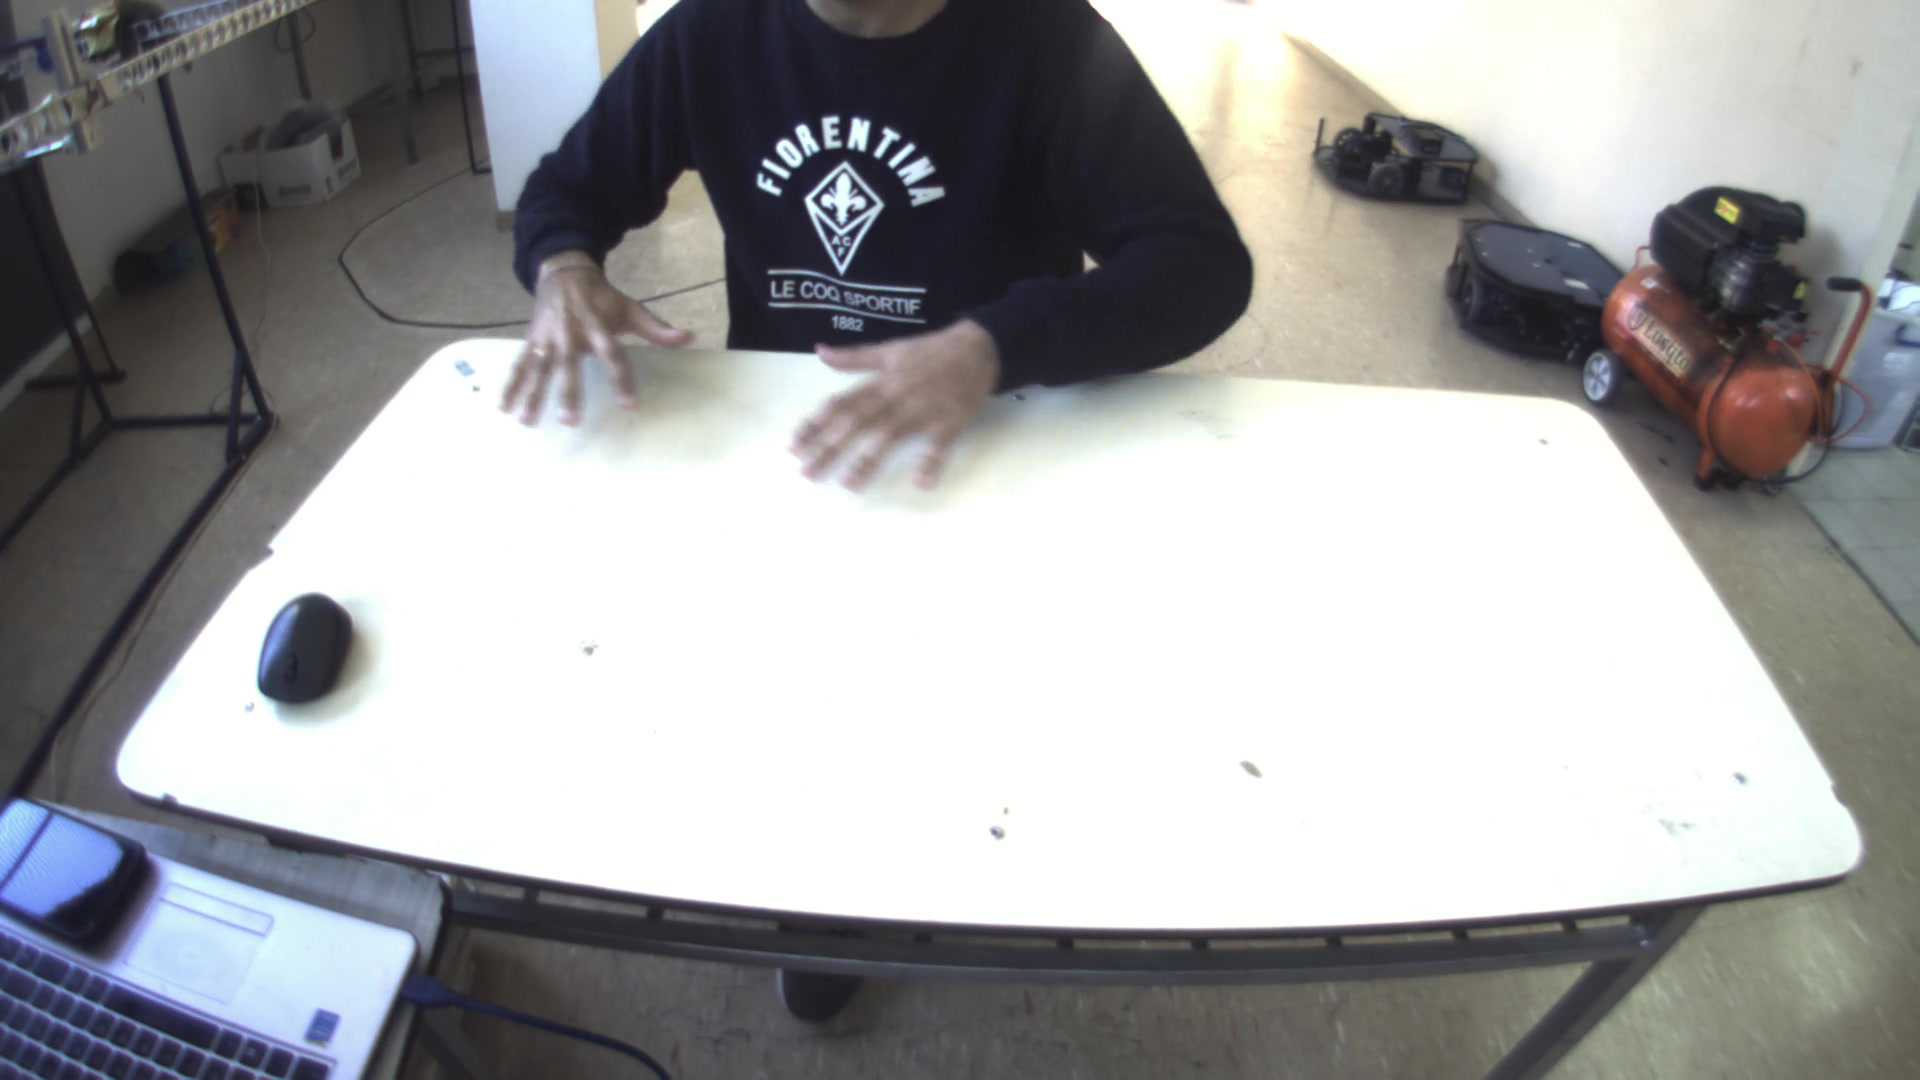hand: (773, 309, 1004, 498), (469, 239, 694, 426)
